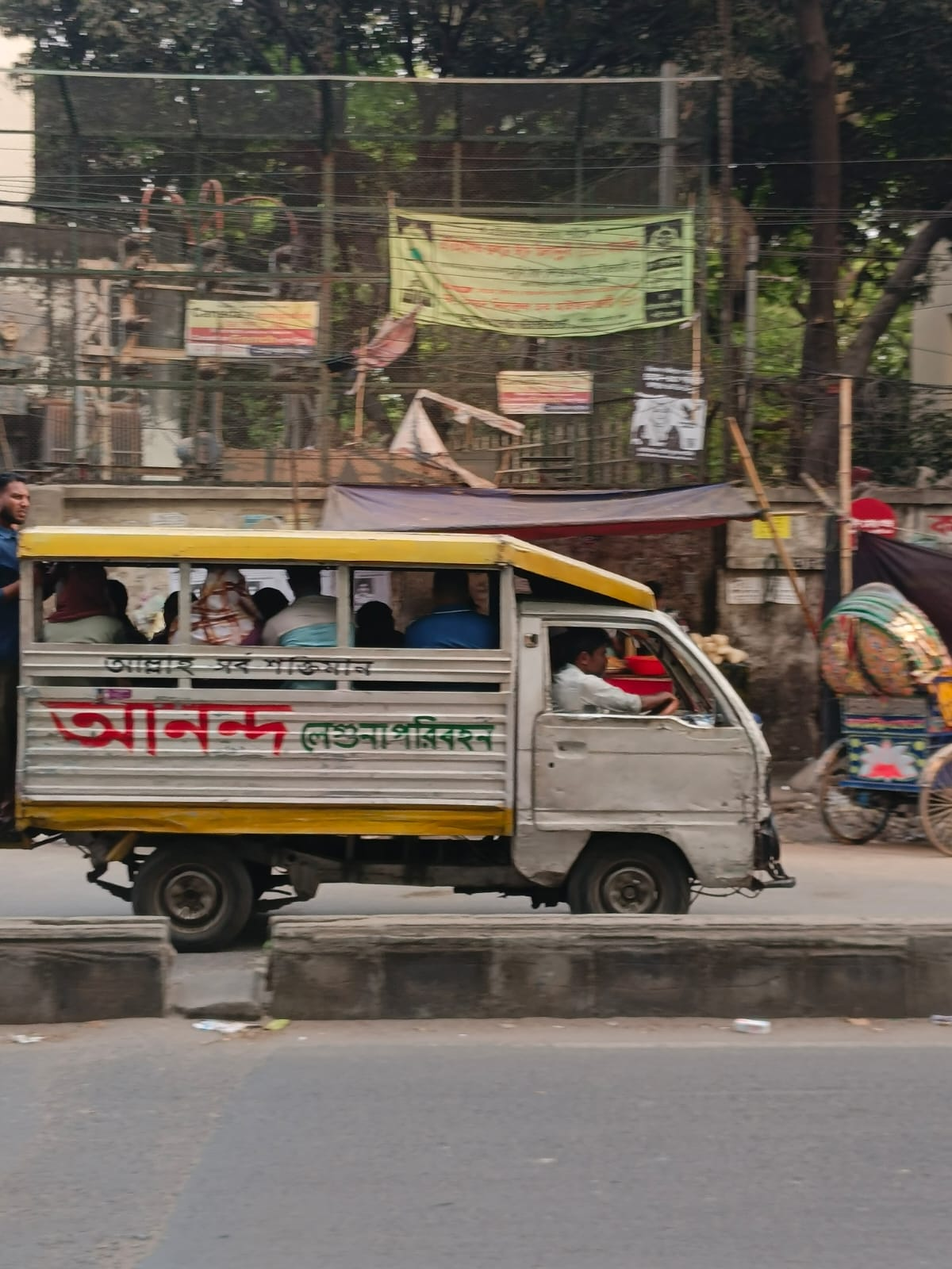Leguna: (11, 376, 863, 1043)
auto-ricksaw: (783, 587, 952, 927)
